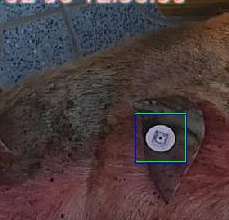text: (135, 113, 185, 161)
